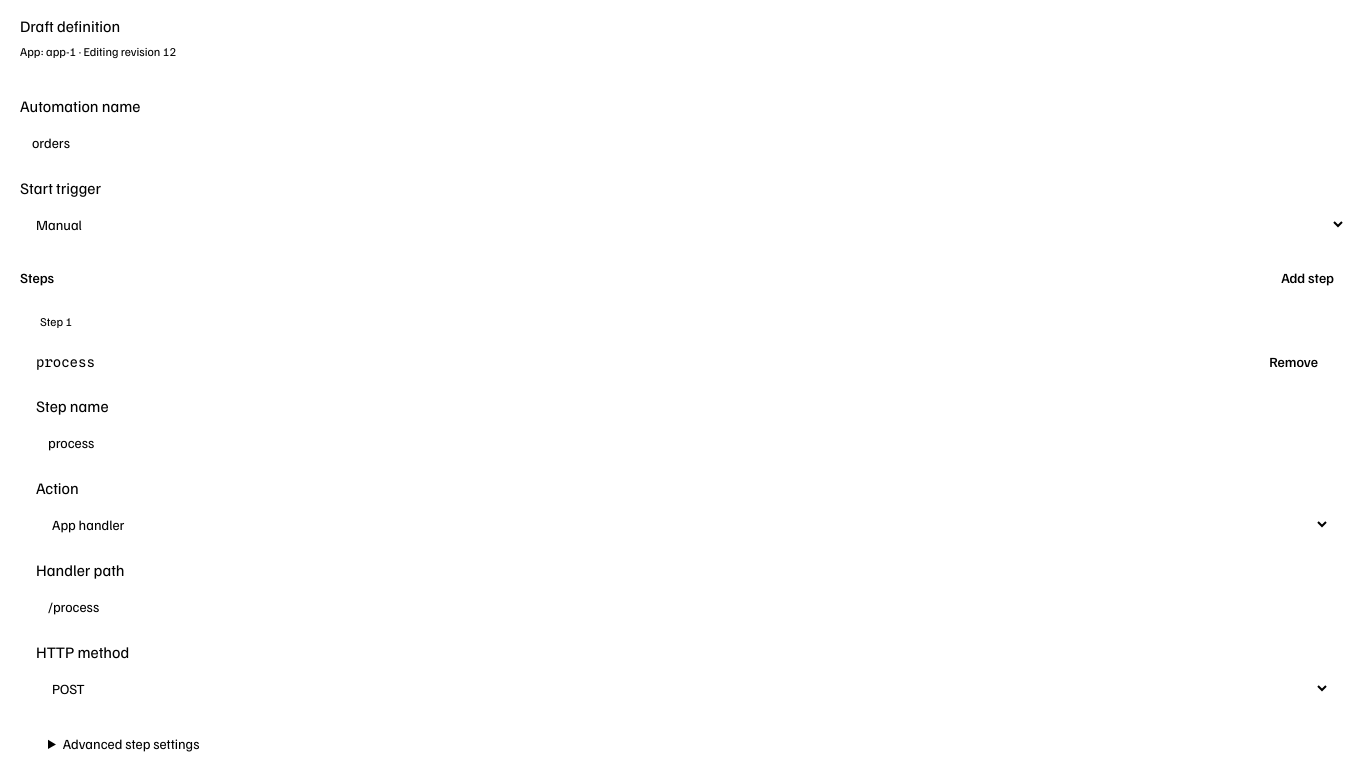
Test case: automation editor write boundaries › keeps the saved draft and blocks writes when the publish outcome is unknown
This screenshot has width=1366, height=768.
Type "/changed" into the field labelled "Handler path" at (683, 606), box [36,588,1330,624]
(page scrolled)
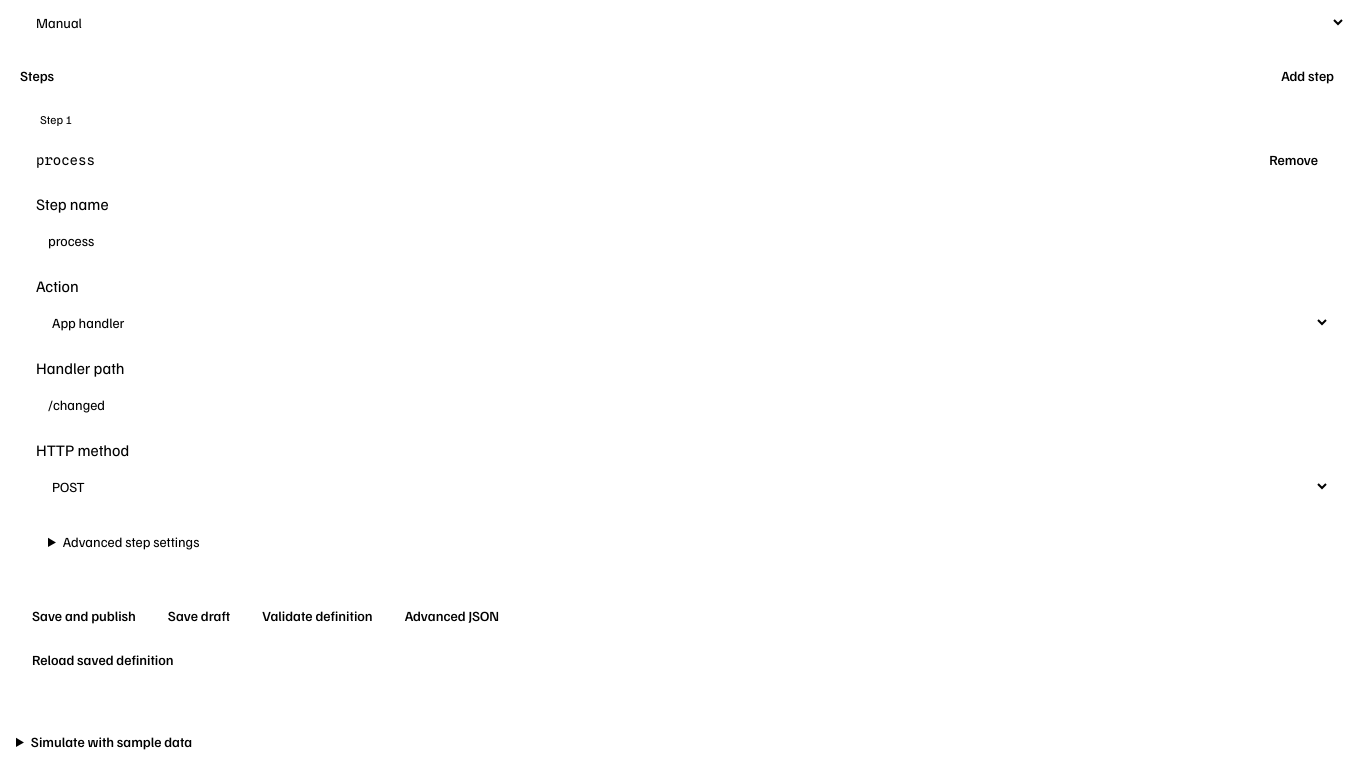
Click the button "Save and publish" at (84, 616), box [20,600,148,632]
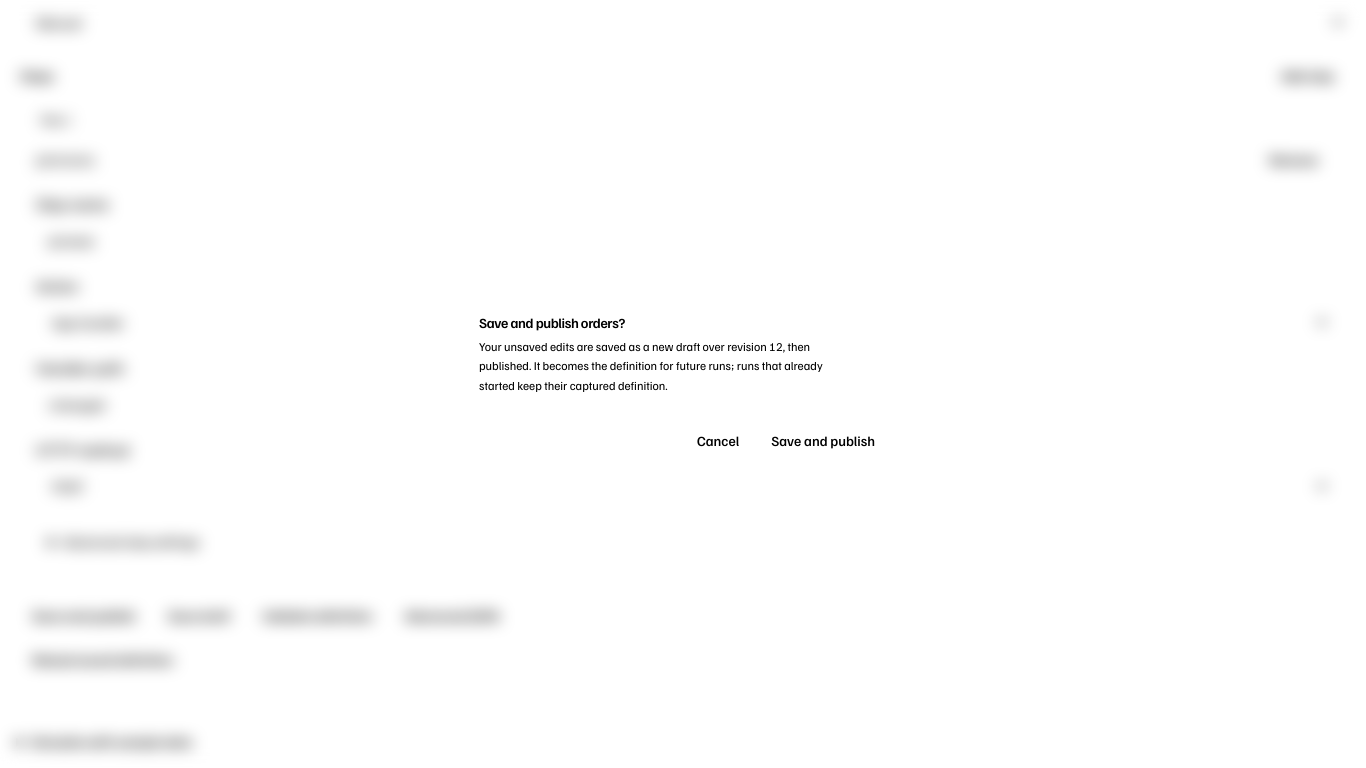
Click the button "Save and publish" at (823, 441), box [759,425,887,457]
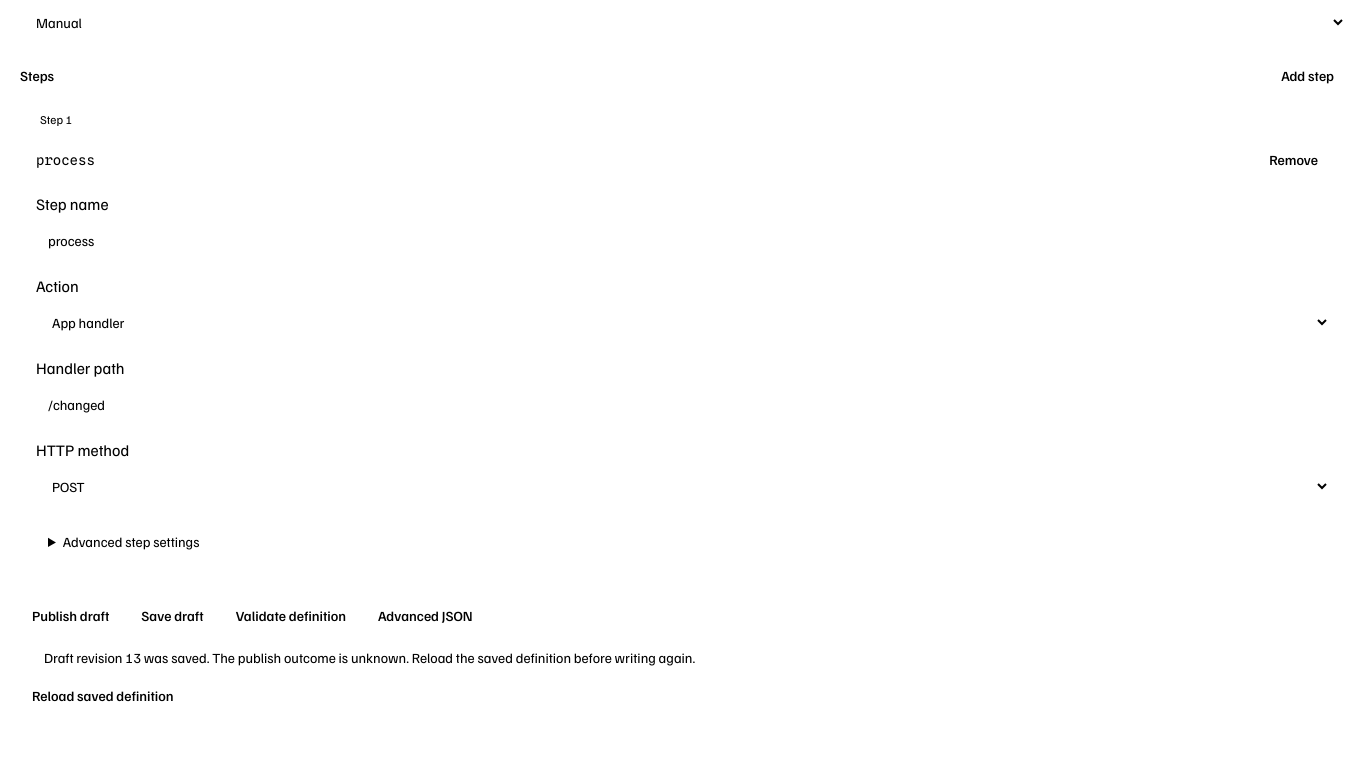
Now the message shows "Draft revision 13 was saved. The publish outcome is unknown. Reload the saved definition", box [44,649,695,666]
Now the button "Publish draft" is disabled, box [20,600,121,632]
